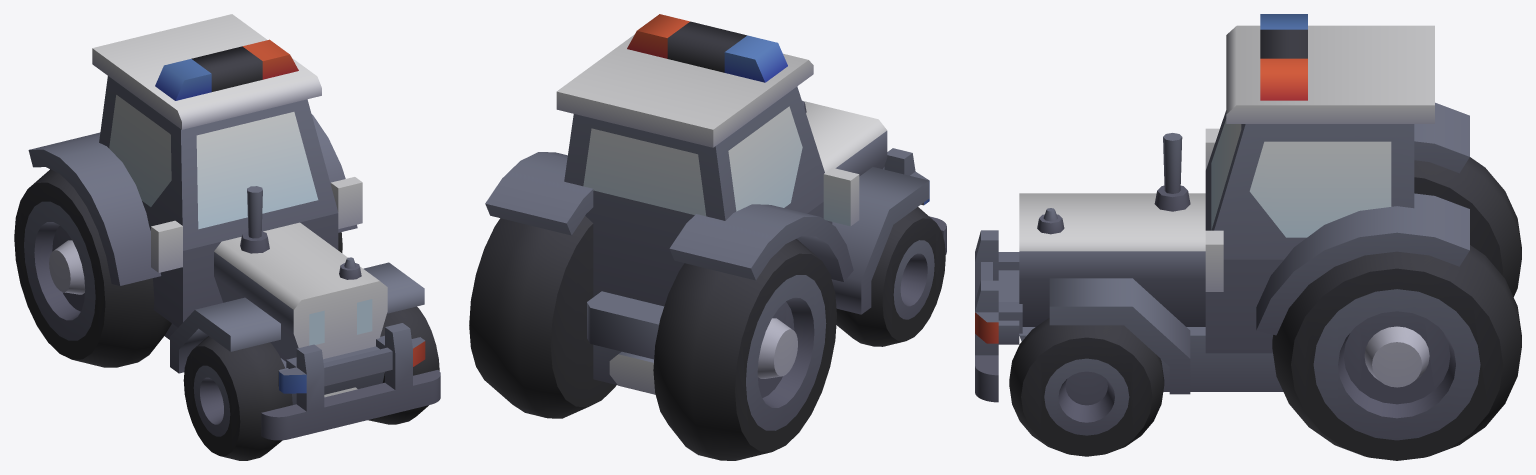
The model's file is tractor-police.glb.
3 renders of one model, left to right at view 1: azimuth 30°, elevation 25°; view 2: azimuth 150°, elevation 25°; view 3: azimuth 270°, elevation 25°, orthographic. The views are drawn at different scales.
Parts seen in each view (by area): view 1: body, wheel-back-right, grill, wheel-front-right, wheel-front-left; view 2: body, wheel-back-right, wheel-back-left, wheel-front-right, grill; view 3: body, wheel-back-left, wheel-front-left, wheel-back-right, grill.
Part boxes in pixels (left/top/right/bottom): body: left=28, top=14, right=424, bottom=404; wheel-back-right: left=14, top=169, right=171, bottom=367; grill: left=261, top=323, right=440, bottom=440; wheel-front-right: left=183, top=336, right=292, bottom=460; wheel-front-left: left=368, top=306, right=439, bottom=424; body: left=485, top=14, right=929, bottom=394; wheel-back-right: left=653, top=239, right=836, bottom=460; wheel-back-left: left=469, top=216, right=616, bottom=418; wheel-front-right: left=836, top=207, right=945, bottom=346; grill: left=883, top=148, right=946, bottom=254; body: left=998, top=14, right=1469, bottom=394; wheel-back-left: left=1272, top=245, right=1521, bottom=460; wheel-front-left: left=1009, top=318, right=1164, bottom=456; wheel-back-right: left=1414, top=157, right=1521, bottom=296; grill: left=975, top=230, right=1022, bottom=402.
Size of the model in its own units: 1.34 by 1.7 by 2.3.
